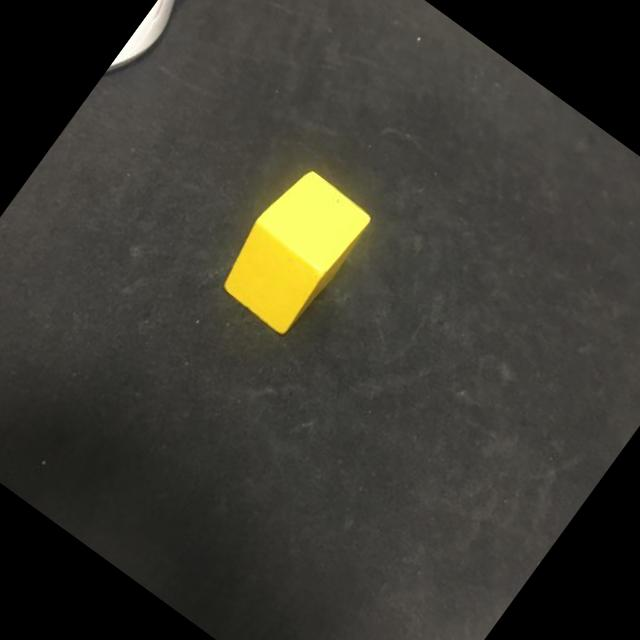yellow: (210, 160, 376, 340)
